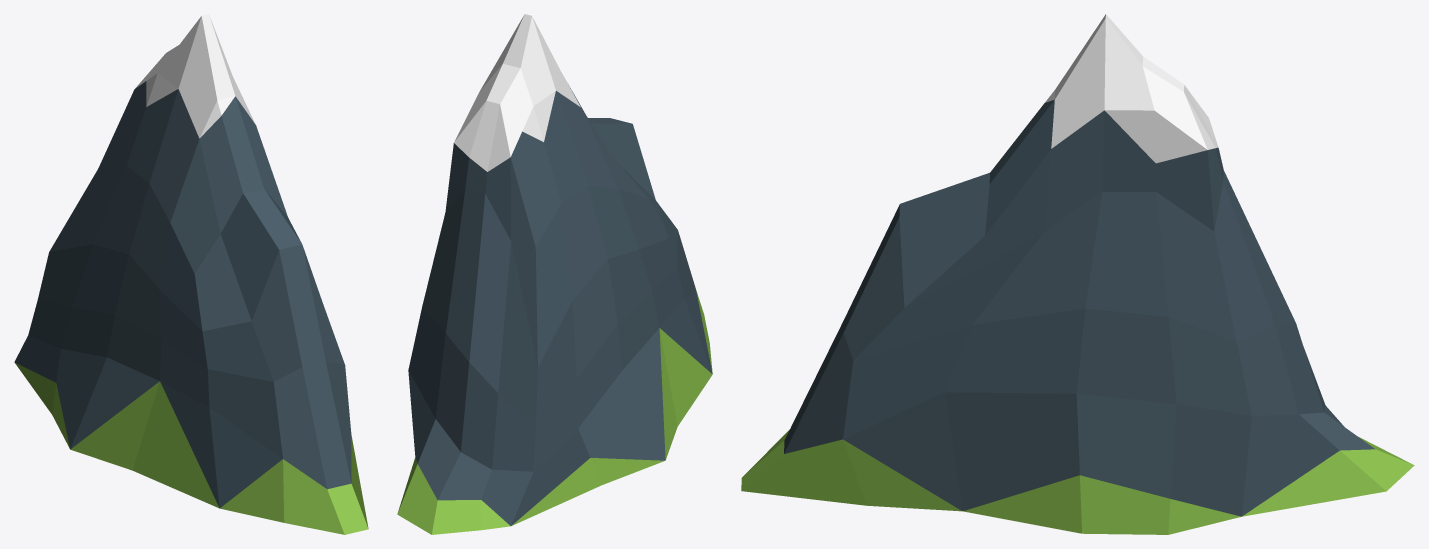
File: mountain_15_lev1.glb
3 renders of one model, left to right at view 1: azimuth 30°, elevation 25°; view 2: azimuth 150°, elevation 25°; view 3: azimuth 270°, elevation 25°, orthographic. The views are drawn at different scales.
Visible parts, largest first — view 1: mountain_15_lev1; view 2: mountain_15_lev1; view 3: mountain_15_lev1.
Boxes of the visible parts, x1,y1,x2,y2 form: mountain_15_lev1: (14, 14, 368, 534); mountain_15_lev1: (397, 14, 712, 534); mountain_15_lev1: (741, 14, 1414, 534).
Size of the model in its own units: 14.33 by 25.17 by 32.63.
